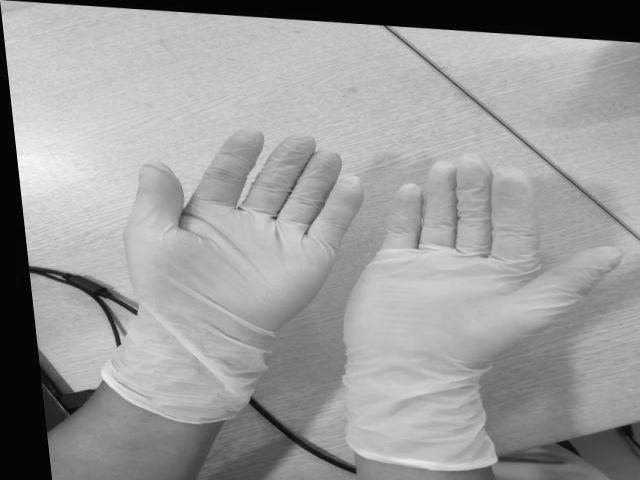gloved: (342, 156, 624, 376), (114, 128, 363, 336)
